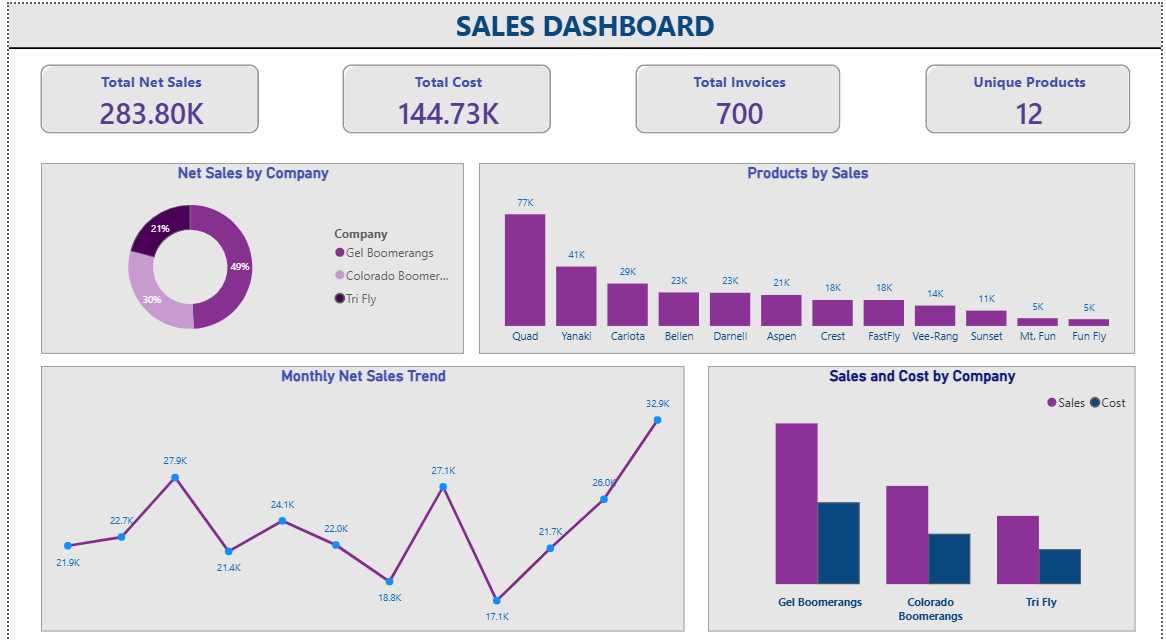

Layout of this report page (visuals, bound fields, positions):
{"tool":"powerbi","page":{"name":"Page 1","canvas":[1280,720],"ordinal":0},"visuals":[{"type":"cardVisual","fields":{"Data":["Sum(master data.Net Sales)"]},"box":[17.5,49.6,277.2,111.9],"z":0},{"type":"cardVisual","fields":{"Data":["Sum(master data.Cost)"]},"box":[353.7,49.6,266.5,111.9],"z":1000},{"type":"cardVisual","fields":{"Data":["master data.Total Invoices"]},"box":[679.2,49.6,262.6,111.9],"z":2000},{"type":"cardVisual","fields":{"Data":["master data.Unique Products"]},"box":[1000.9,49.6,262.6,111.9],"z":3000},{"type":"shape","box":[0,26.3,1280,44.7],"z":4000},{"type":"donutChart","title":"Net Sales by Company","fields":{"Category":["master data.Company"],"Y":["Sum(master data.Net Sales)"]},"box":[35,177,469.8,212],"z":5000},{"type":"clusteredColumnChart","title":"Products by Sales","fields":{"Category":["master data.Product"],"Y":["Sum(master data.Net Sales)"]},"box":[522.3,177,729.5,212],"z":6000},{"type":"lineChart","title":"Monthly Net Sales Trend","fields":{"Category":["master data.Date.Variation.Date Hierarchy.Month"],"Y":["Sum(master data.Net Sales)"]},"box":[35,402.7,714.9,294.7],"z":7000},{"type":"clusteredColumnChart","title":"Sales and Cost by Company","fields":{"Category":["master data.Company"],"Y":["Sum(master data.Net Sales)","Sum(master data.Cost)"]},"box":[777.1,402.7,474.7,294.7],"z":8000},{"type":"shape","box":[0,0,1280,47.8],"z":8001}]}

Visuals, with their boxes in screenshot pixels (x1, y1, x2, y2), scaled from the page's 1280x720 canvas onto the 1166x640 screenshot:
cardVisual - Sum(master data.Net Sales): 16/44/268/144
cardVisual - Sum(master data.Cost): 322/44/565/144
cardVisual - master data.Total Invoices: 619/44/858/144
cardVisual - master data.Unique Products: 912/44/1151/144
shape: 0/23/1165/63
"Net Sales by Company" donutChart: 32/157/460/346
"Products by Sales" clusteredColumnChart: 476/157/1140/346
"Monthly Net Sales Trend" lineChart: 32/358/683/620
"Sales and Cost by Company" clusteredColumnChart: 708/358/1140/620
shape: 0/0/1165/42
